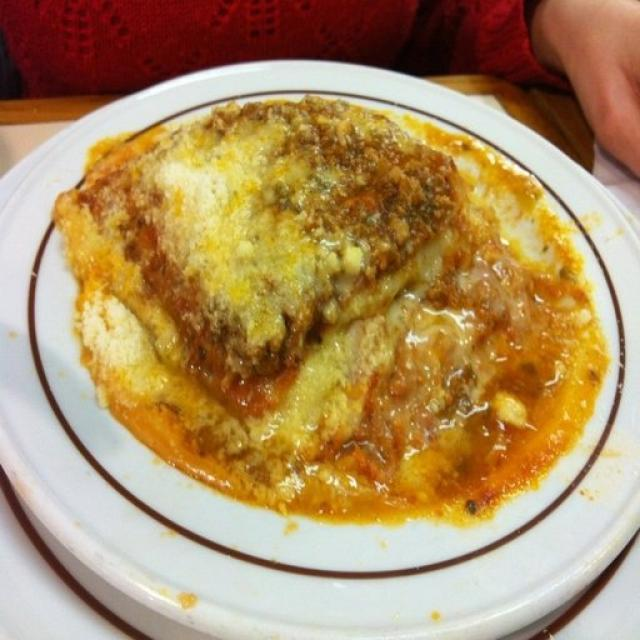Lasagna: (95, 90, 485, 408)
